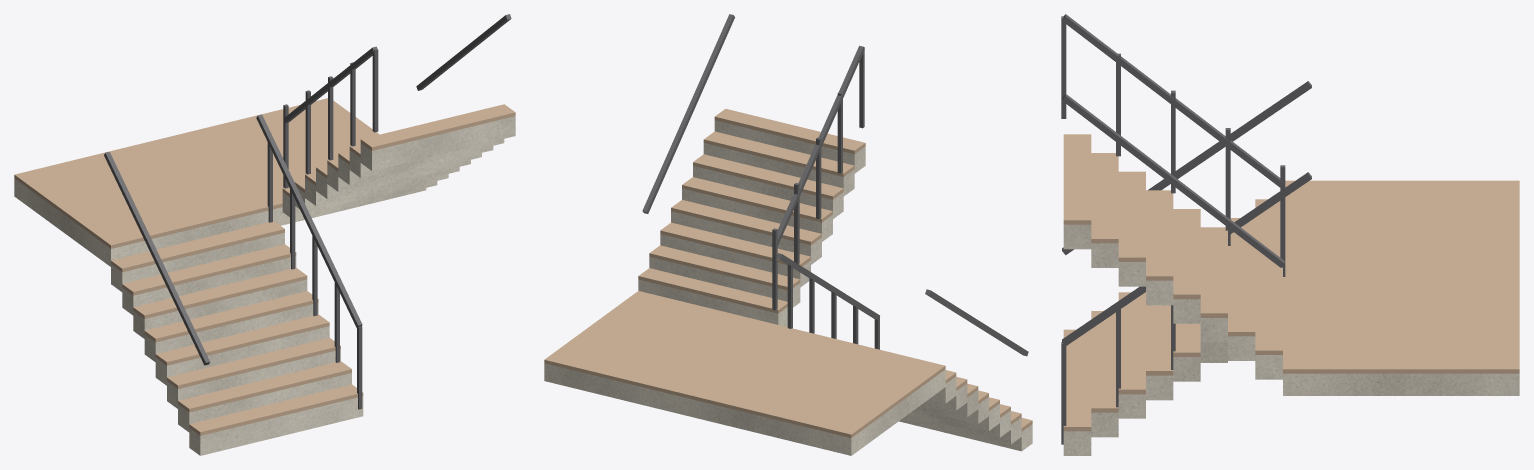
The model's file is stairs_u_3m_192_170.glb.
3 views of the same model, side by side, from view 1: azimuth 30°, elevation 25°; view 2: azimuth 150°, elevation 25°; view 3: azimuth 270°, elevation 25° (orthographic). The views are drawn at different scales.
Parts seen in each view (by area): view 1: stairs_u_3m_192_170_floor, stairs_u_3m_192_170_plaster, stairs_u_3m_192_170_iron; view 2: stairs_u_3m_192_170_floor, stairs_u_3m_192_170_plaster, stairs_u_3m_192_170_iron; view 3: stairs_u_3m_192_170_floor, stairs_u_3m_192_170_plaster, stairs_u_3m_192_170_iron.
Part boxes in pixels (bbox=[...]): stairs_u_3m_192_170_floor: bbox=[14, 98, 515, 435]; stairs_u_3m_192_170_plaster: bbox=[14, 116, 515, 455]; stairs_u_3m_192_170_iron: bbox=[104, 14, 511, 409]; stairs_u_3m_192_170_floor: bbox=[544, 108, 1032, 438]; stairs_u_3m_192_170_plaster: bbox=[544, 120, 1032, 455]; stairs_u_3m_192_170_iron: bbox=[642, 14, 1028, 356]; stairs_u_3m_192_170_floor: bbox=[1063, 134, 1519, 431]; stairs_u_3m_192_170_plaster: bbox=[1063, 224, 1519, 455]; stairs_u_3m_192_170_iron: bbox=[1061, 14, 1311, 444].
Size of the model in its own units: 3.62 by 4.01 by 3.72.
3 materials, 1 textured.
